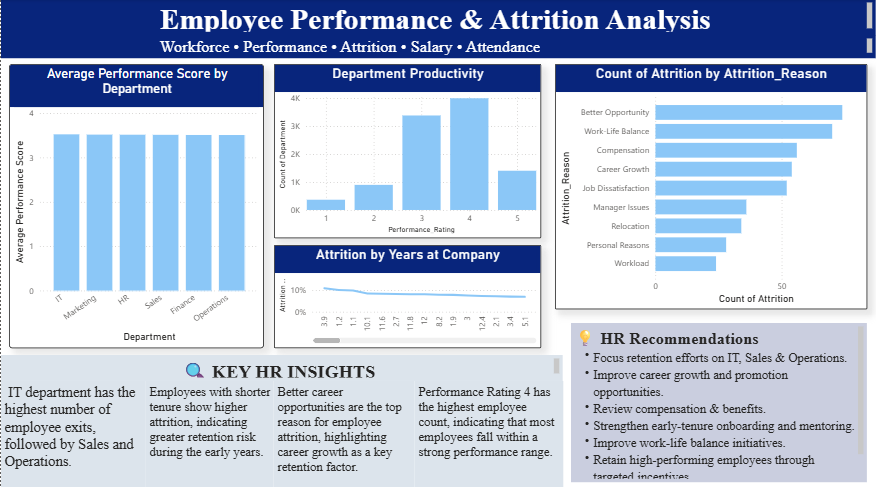

What the dashboard file says about the page in this screenshot:
{"tool":"powerbi","page":{"name":"Employee Performance & Attrition Analysis","canvas":[1280,720],"ordinal":1},"visuals":[{"type":"columnChart","fields":{"Category":["HR_Workforce_Analytics_Cleaned.Department"],"Y":["HR_Workforce_Analytics_Cleaned.Average Performance Score"]},"box":[11.7,95.1,373.2,415.6],"z":0},{"type":"textbox","box":[0,0,1280.5,52.7],"z":1000},{"type":"textbox","box":[0,52.7,1280.5,33.7],"z":2000},{"type":"columnChart","title":"Department Productivity","fields":{"Category":["HR_Workforce_Analytics_Cleaned.Performance_Rating"],"Y":["CountNonNull(HR_Workforce_Analytics_Cleaned.Department)"]},"box":[399.5,95.1,390.7,254.6],"z":3000},{"type":"lineChart","title":"Attrition by Years at Company","fields":{"Category":["HR_Workforce_Analytics_Cleaned.Years_at_Company"],"Y":["HR_Workforce_Analytics_Cleaned.Attrition Rate"]},"box":[399.5,360,390.7,150.7],"z":5000},{"type":"clusteredBarChart","fields":{"Category":["HR_Workforce_Analytics_Cleaned.Attrition_Reason"],"Y":["CountNonNull(HR_Workforce_Analytics_Cleaned.Attrition)"]},"box":[810.7,95.1,456.6,358.5],"z":5001},{"type":"textbox","box":[0,521,822.4,38],"z":5002},{"type":"textbox","box":[834.1,474.1,433.2,232.7],"z":5003},{"type":"textbox","box":[0,559,212.2,161],"z":5004},{"type":"textbox","box":[212.2,559,187.3,161],"z":5005},{"type":"textbox","box":[399.5,559,206.3,161],"z":5006},{"type":"textbox","box":[605.9,559,216.6,161],"z":5007}]}

Visuals, with their boxes in screenshot pixels (x1, y1, x2, y2), scaled from the page's 1280x720 canvas onto the 876x487 screenshot:
columnChart - HR_Workforce_Analytics_Cleaned.Department x HR_Workforce_Analytics_Cleaned.Average Performance Score: <region>8, 64, 263, 345</region>
textbox: <region>0, 0, 875, 36</region>
textbox: <region>0, 36, 875, 58</region>
"Department Productivity" columnChart: <region>273, 64, 541, 237</region>
"Attrition by Years at Company" lineChart: <region>273, 244, 541, 345</region>
clusteredBarChart - HR_Workforce_Analytics_Cleaned.Attrition_Reason x CountNonNull(HR_Workforce_Analytics_Cleaned.Attrition): <region>555, 64, 867, 307</region>
textbox: <region>0, 352, 563, 378</region>
textbox: <region>571, 321, 867, 478</region>
textbox: <region>0, 378, 145, 486</region>
textbox: <region>145, 378, 273, 486</region>
textbox: <region>273, 378, 415, 486</region>
textbox: <region>415, 378, 563, 486</region>
